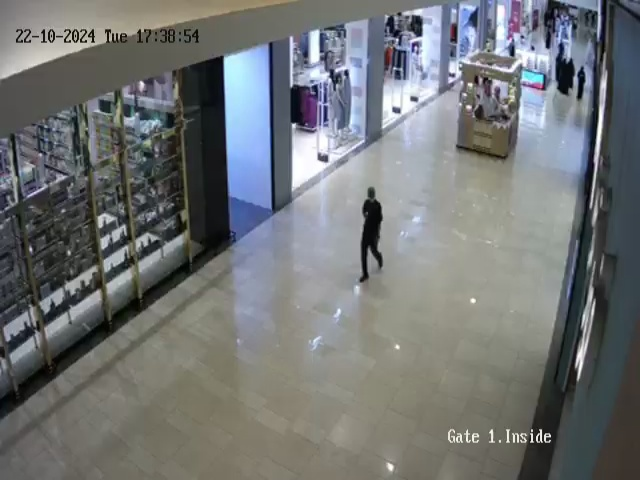female: (577, 63, 586, 99), (544, 27, 554, 52), (554, 37, 567, 56), (567, 57, 575, 87), (560, 58, 567, 92), (556, 55, 563, 84)
male: (359, 186, 384, 283), (504, 38, 519, 58)
